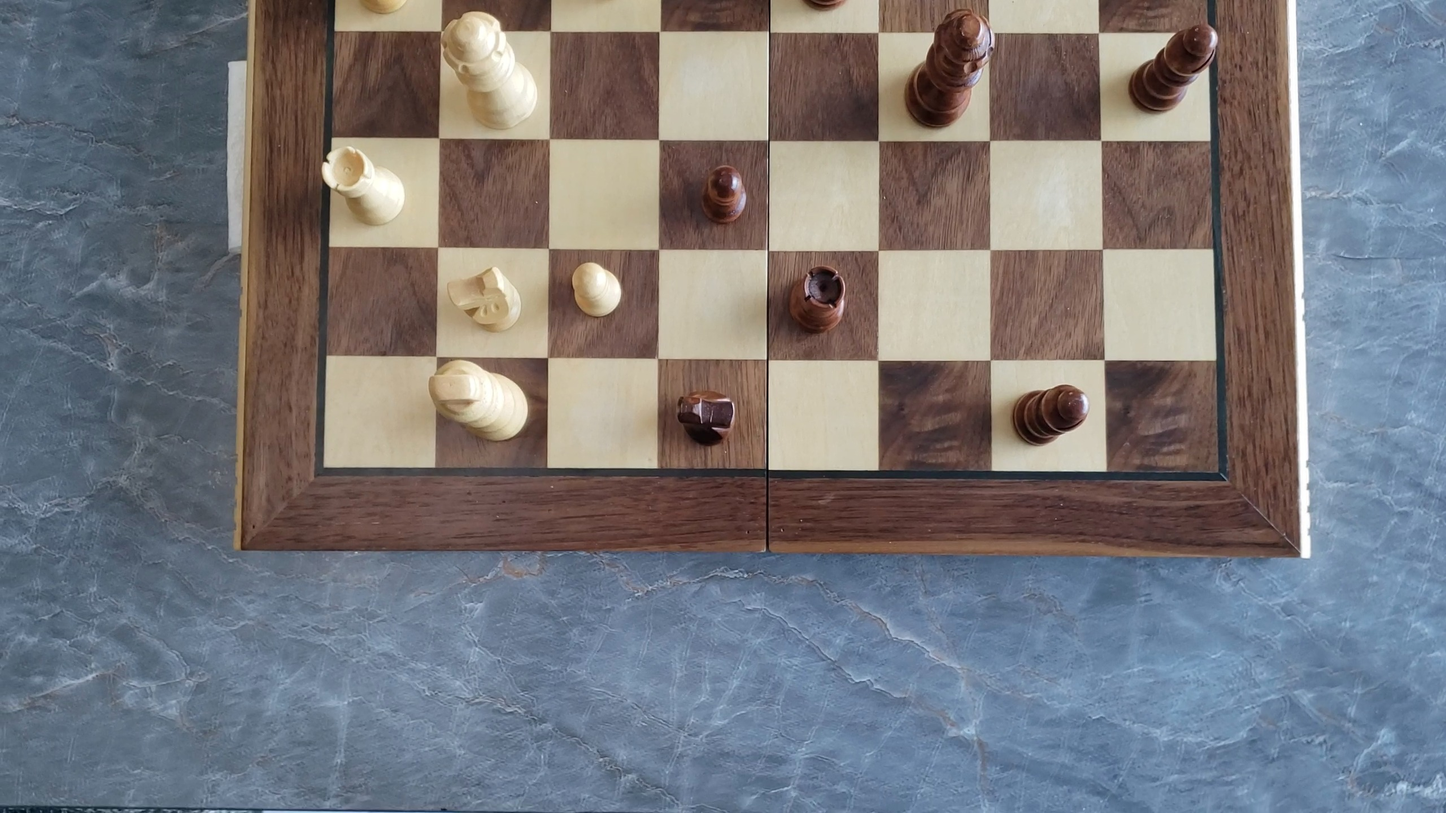black-bishop: (1126, 20, 1219, 115), (1009, 380, 1092, 446)
black-knight: (659, 377, 755, 461)
black-pawn: (700, 159, 750, 228)
black-queen: (904, 6, 996, 128)
black-rook: (786, 262, 848, 337)
white-king: (425, 356, 532, 445)
white-knight: (443, 261, 527, 335)
white-pawn: (566, 257, 626, 321)
white-queen: (437, 6, 552, 136)
white-rook: (319, 142, 410, 230)
